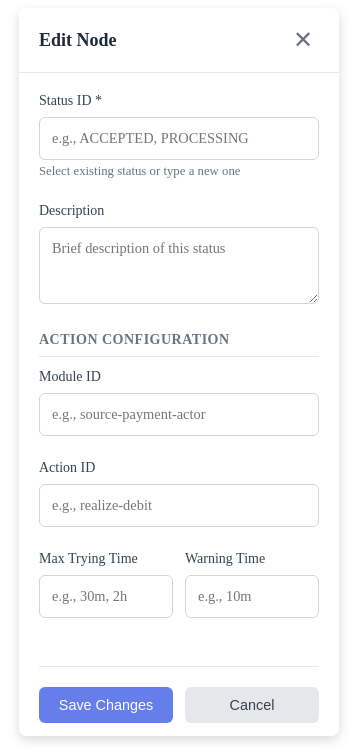
Test case: NodeEditor › offers the known statuses and fills the description on pick
The width and height of the screenshot is (359, 756).
Click the field labelled "Status ID *".
click(179, 138)  # box [39, 117, 319, 160]
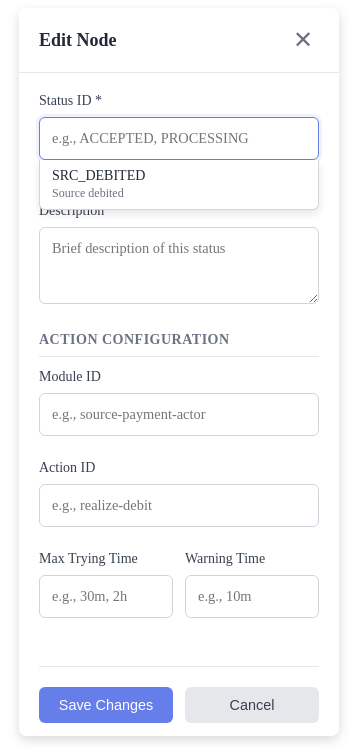
Click the text "SRC_DEBITED".
click(99, 176)  # box [52, 168, 145, 183]
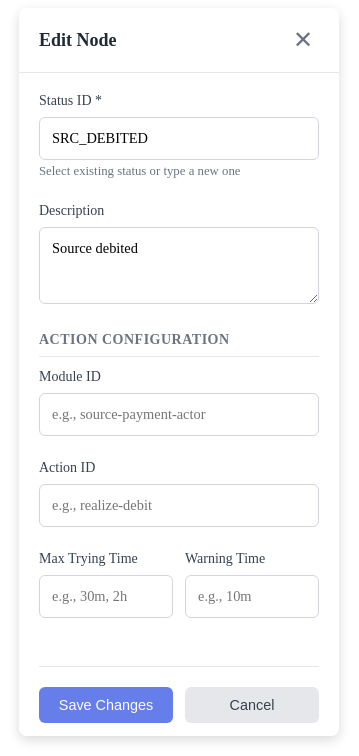
Now the field labelled "Status ID *" holds "SRC_DEBITED", box [39, 117, 319, 160]
Now the text box labelled "Description" holds "Source debited", box [39, 227, 319, 304]
